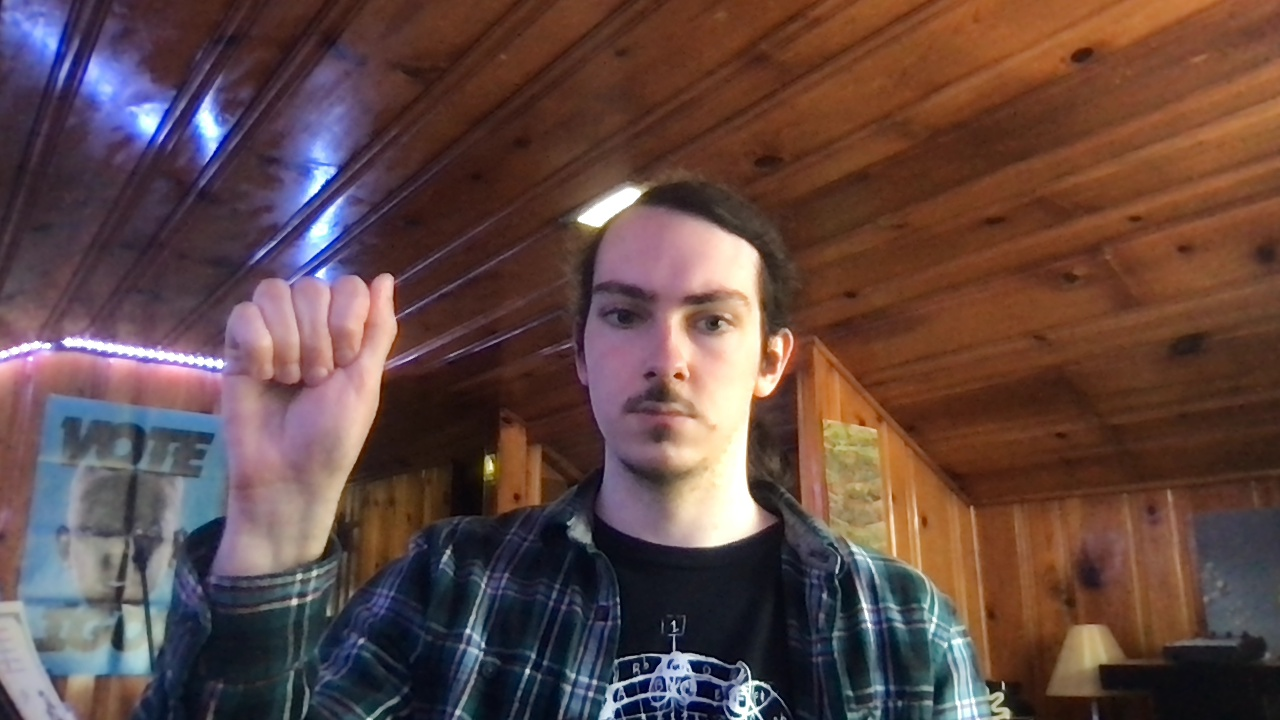a: (216, 267, 402, 486)
